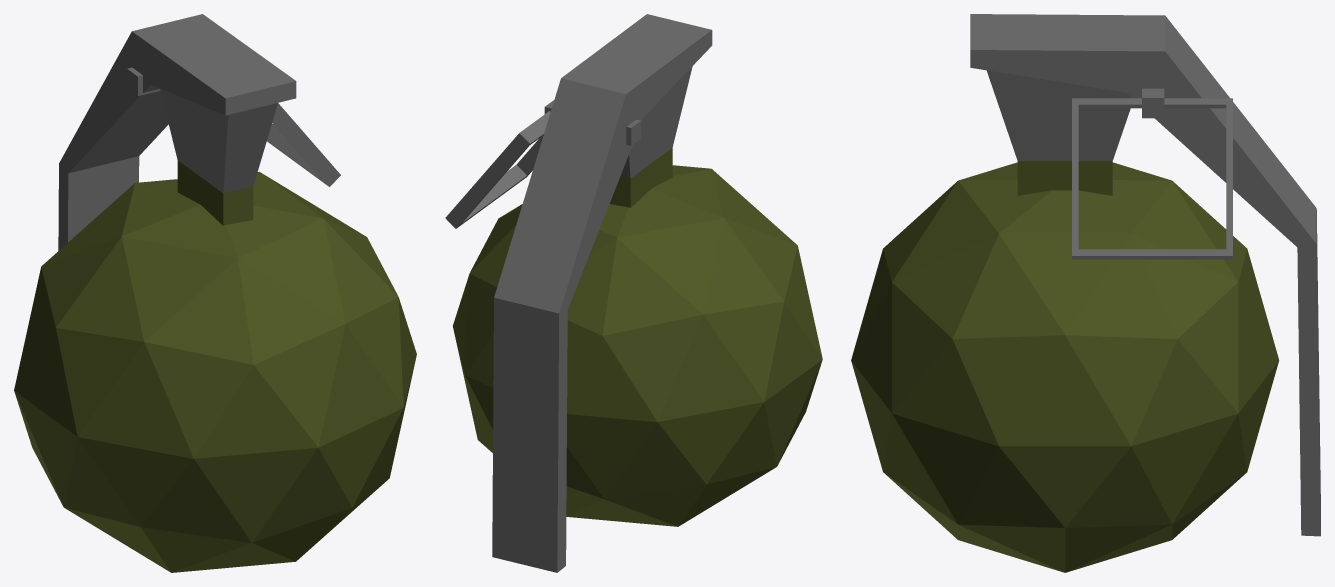
The model's file is Grenade_Frag_M67.fbx.
The picture shows the model from 3 angles, left to right: view 1: azimuth 30°, elevation 25°; view 2: azimuth 150°, elevation 25°; view 3: azimuth 270°, elevation 25°; orthographic projection. The views are drawn at different scales.
Visible parts, largest first — view 1: Grenade_Frag_M67; view 2: Grenade_Frag_M67; view 3: Grenade_Frag_M67.
Boxes of the visible parts, <box> form: Grenade_Frag_M67: <box>14,14,416,572</box>; Grenade_Frag_M67: <box>445,14,822,572</box>; Grenade_Frag_M67: <box>851,14,1320,572</box>.
Size of the model in its own units: 6.45 by 8.93 by 7.44.
